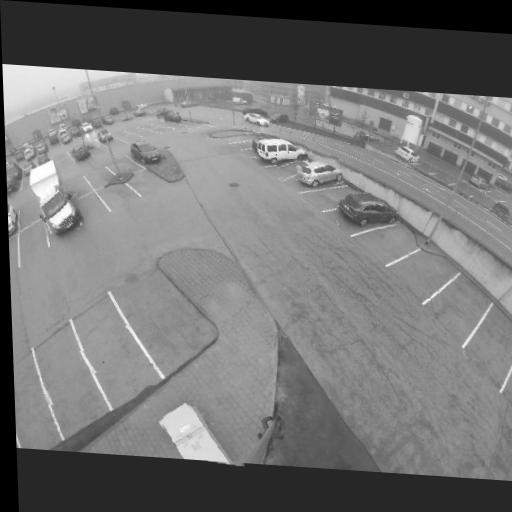busy: (160, 403, 247, 465), (335, 188, 398, 231), (37, 182, 84, 236), (292, 155, 343, 191), (254, 137, 308, 169), (125, 140, 163, 165), (391, 144, 418, 163), (6, 166, 22, 198), (69, 142, 92, 162), (490, 175, 512, 195), (8, 204, 21, 235), (245, 112, 270, 128), (20, 146, 37, 163), (160, 110, 182, 123), (97, 129, 115, 143), (61, 133, 74, 146), (101, 116, 113, 127), (132, 107, 145, 117)
free: (41, 350, 93, 406), (85, 325, 138, 375), (136, 300, 185, 336), (403, 255, 444, 290), (440, 290, 478, 327), (14, 372, 41, 423), (477, 325, 512, 362), (376, 228, 409, 257), (18, 192, 40, 224), (277, 158, 304, 182), (23, 226, 47, 248), (102, 187, 130, 205), (78, 199, 102, 217), (56, 154, 76, 174), (324, 189, 347, 205), (136, 178, 158, 193), (112, 159, 132, 174), (66, 179, 85, 193), (121, 131, 140, 144), (88, 173, 106, 186), (154, 123, 170, 135), (167, 119, 183, 131), (140, 130, 154, 139)
